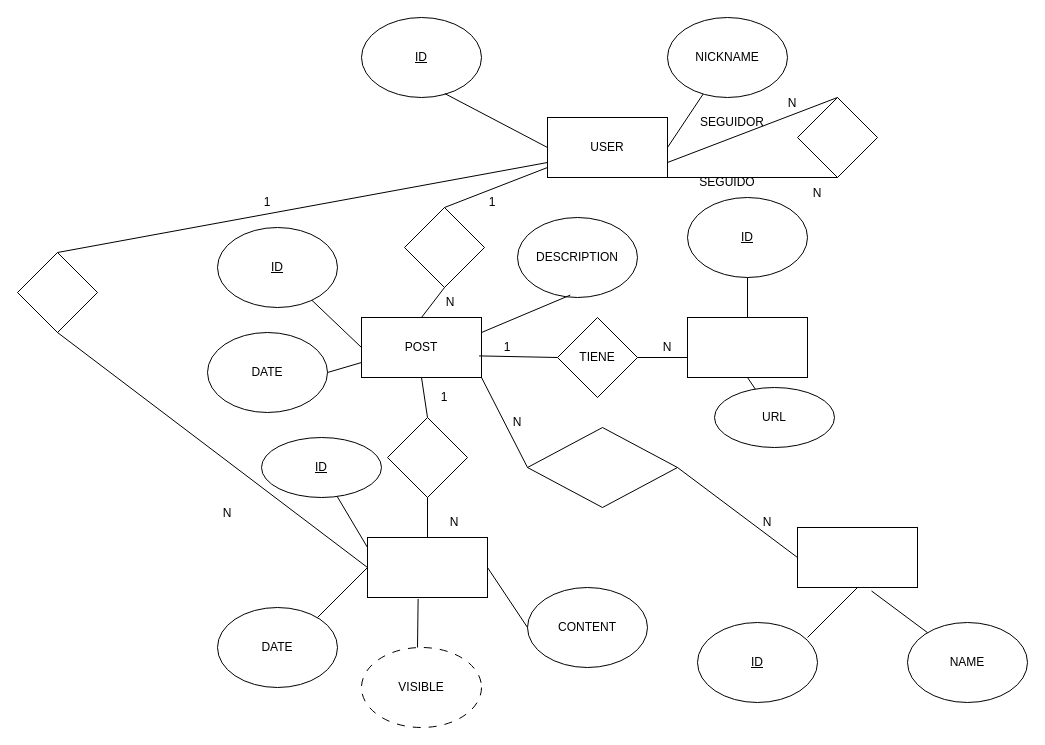
Image size: 1045x745. Some labels were removed from this diagram. The shapes that lost their labels are listed below. From the top down, each one's box as (x1, y1, x2, y2) in pixels, then its label:
(796, 96, 878, 178): SIGUE
(404, 206, 484, 288): REALIZA
(16, 252, 98, 332): ESCRIBE
(686, 316, 808, 378): POST_IMAGES
(386, 416, 468, 498): RECIBE
(526, 426, 678, 508): TIENE_ETIQUETA
(366, 536, 488, 598): COMMENT
(796, 526, 918, 588): TAG
